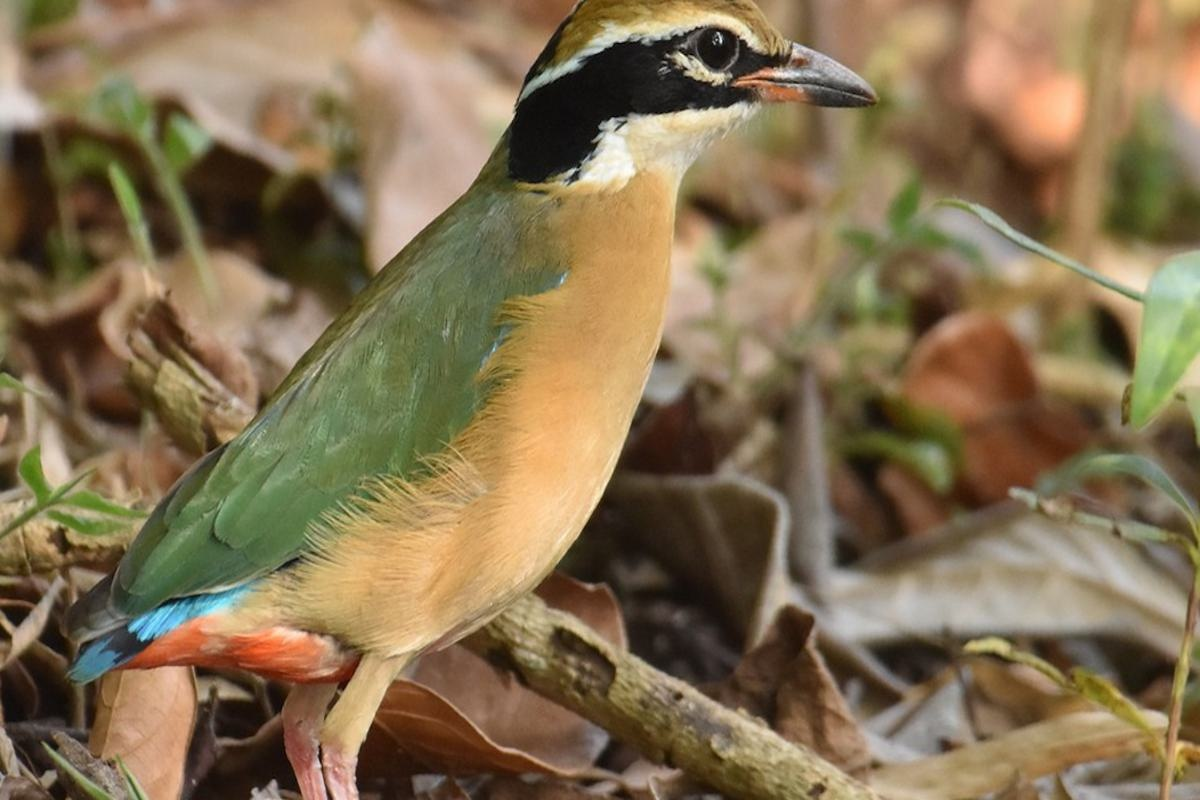pitta: (57, 5, 891, 658)
